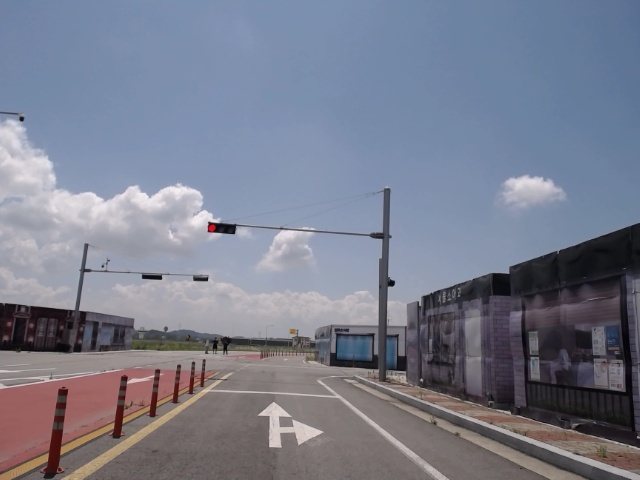red_3: (207, 222, 238, 235)
